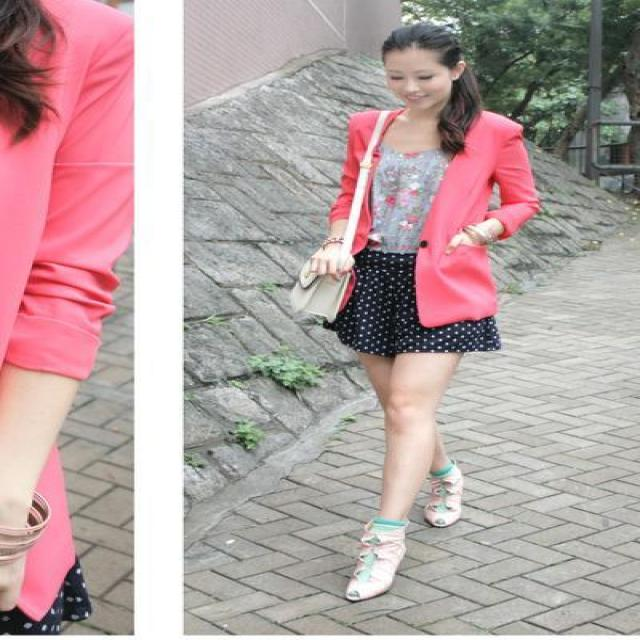bag: (268, 141, 402, 319)
jacket: (327, 108, 542, 326)
shirt: (365, 151, 446, 254)
shoe: (347, 463, 480, 598)
skirt: (326, 243, 499, 362)
